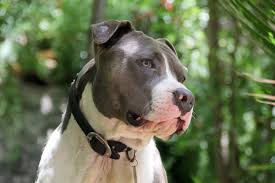Perro Pitbull: (62, 15, 207, 178)
